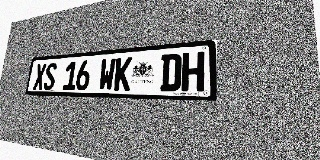1: (62, 61, 78, 90)
6: (75, 60, 91, 90)
D: (160, 53, 182, 91)
H: (181, 51, 204, 92)
K: (113, 57, 132, 91)
S: (43, 63, 57, 90)
W: (98, 58, 116, 91)
X: (33, 63, 47, 90)
